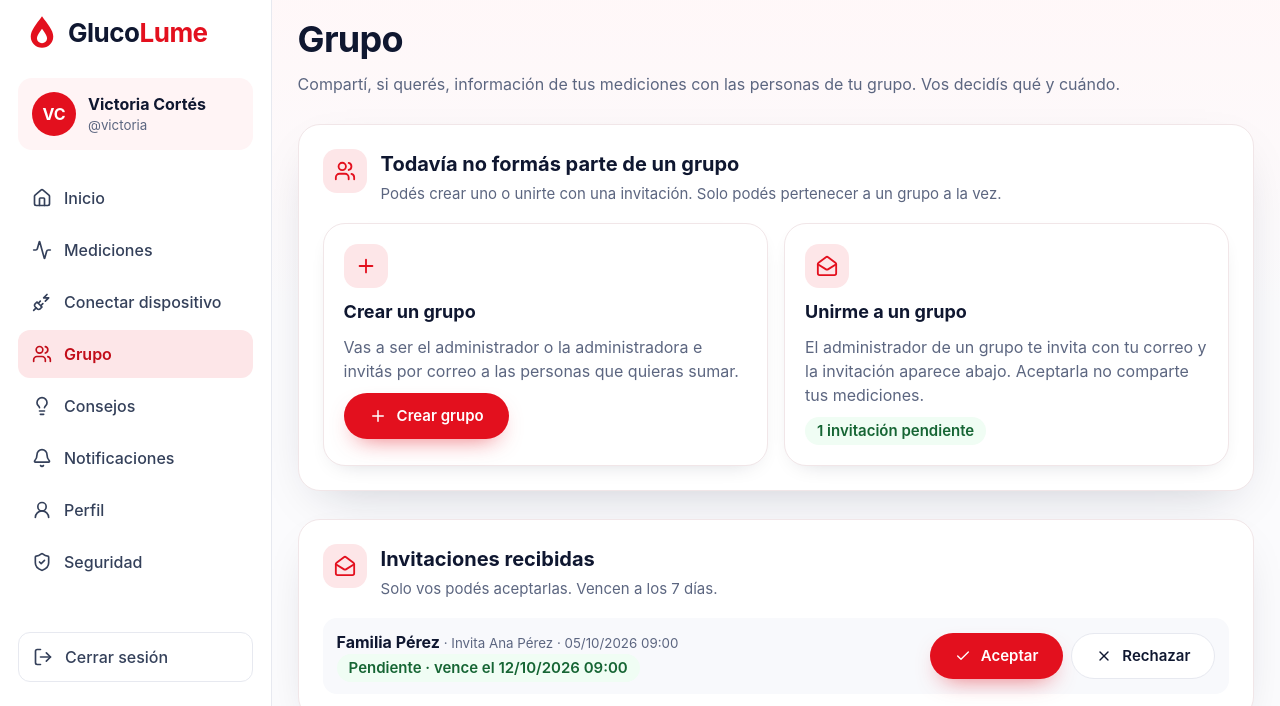
Test case: Inicio de grupos › aceptar una invitación avisa que no comparte mediciones y entra al grupo
The image size is (1280, 706).
Expected: the text "· Invita Ana Pérez · 05/10/2026 09:00" is shown, [440,635,678,651]
What coordinates should you click on to do the following:
click the button with aria-label "Aceptar invitación a Familia Pérez"
I would click on:
 (997, 656)
Its box is [930,633,1063,679].
(page scrolled)
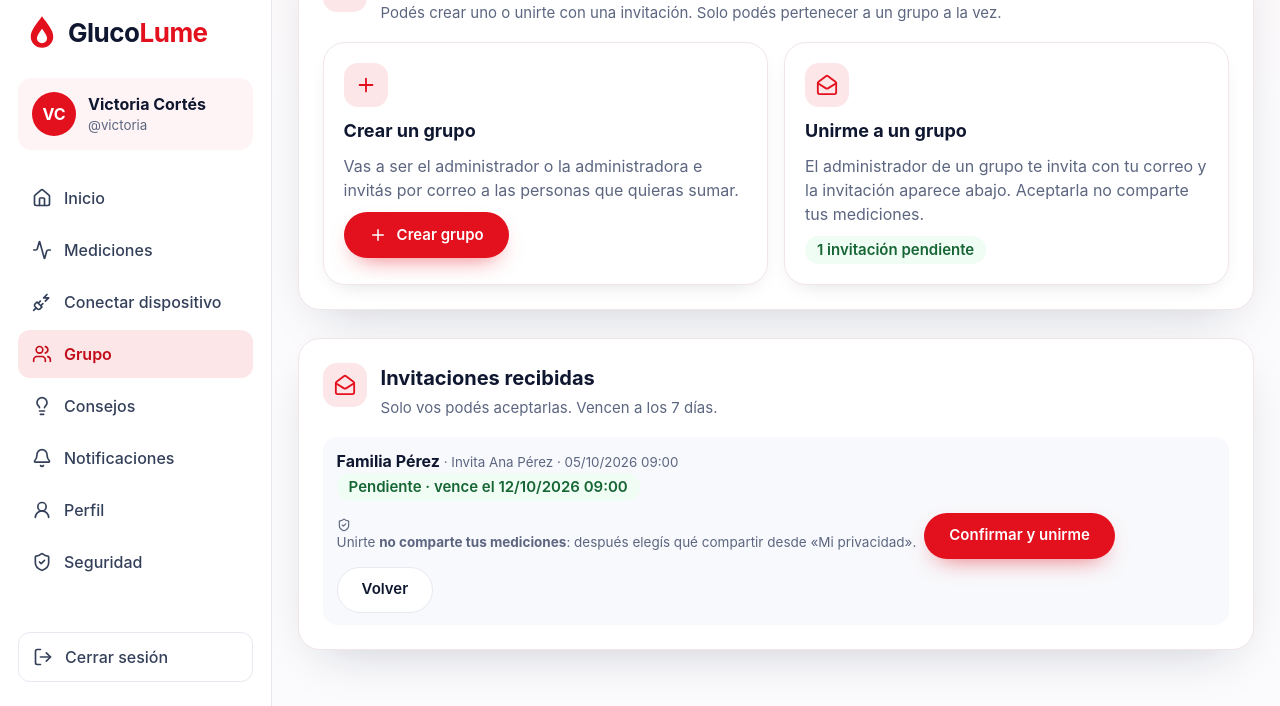
Result: the dialog shows "no comparte tus mediciones" at [379,534,566,550]
What coordinates should you click on to do the following:
click the button "Confirmar y unirme"
I would click on:
 (1020, 536)
Its box is [924,513,1115,559].
(page scrolled)
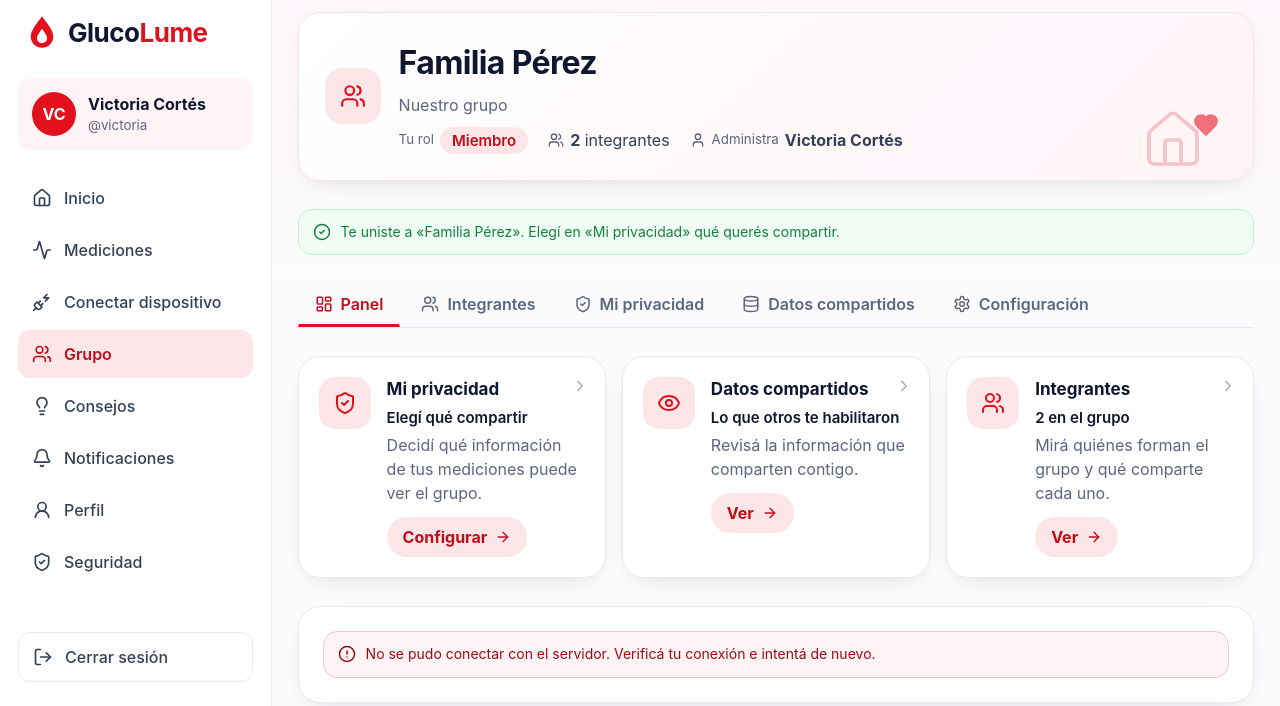
Result: the text "Te uniste a «Familia Pérez»" is shown at [341,223,840,240]
Result: the heading "Invitaciones" is gone
